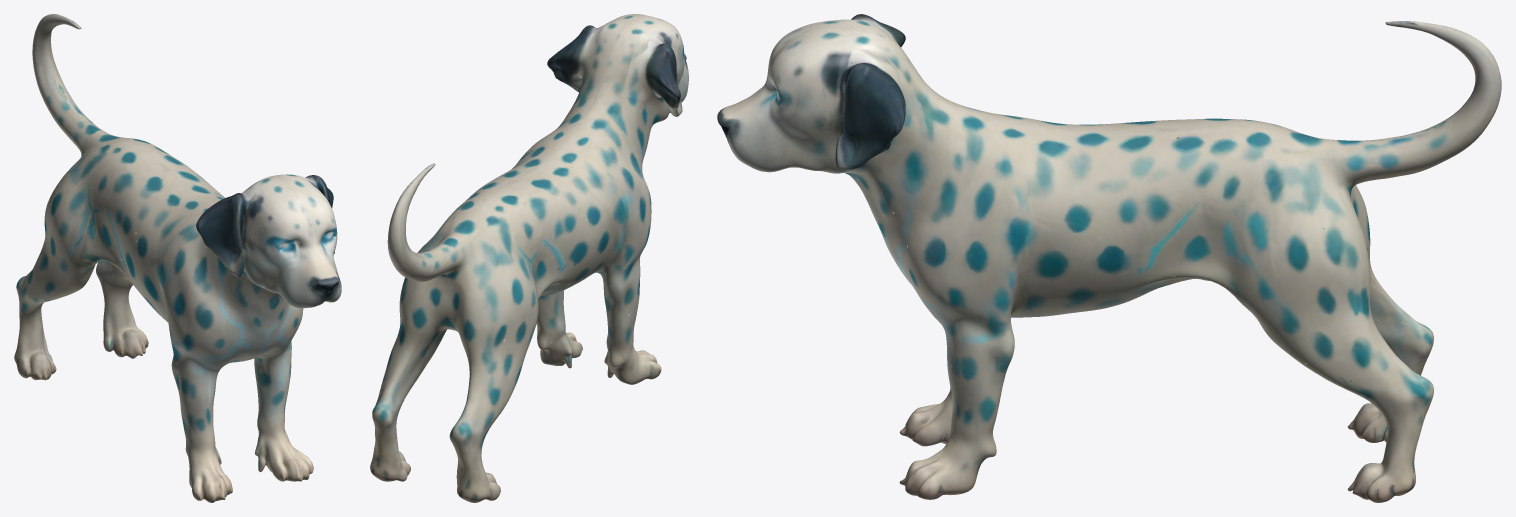
File: dog6.glb
The picture shows the model from 3 angles, left to right: view 1: azimuth 30°, elevation 25°; view 2: azimuth 150°, elevation 25°; view 3: azimuth 270°, elevation 25°; orthographic projection. The views are drawn at different scales.
Size of the model in its own units: 0.5302 by 1.26 by 2.
Materials: 1 (1 with a texture image).
